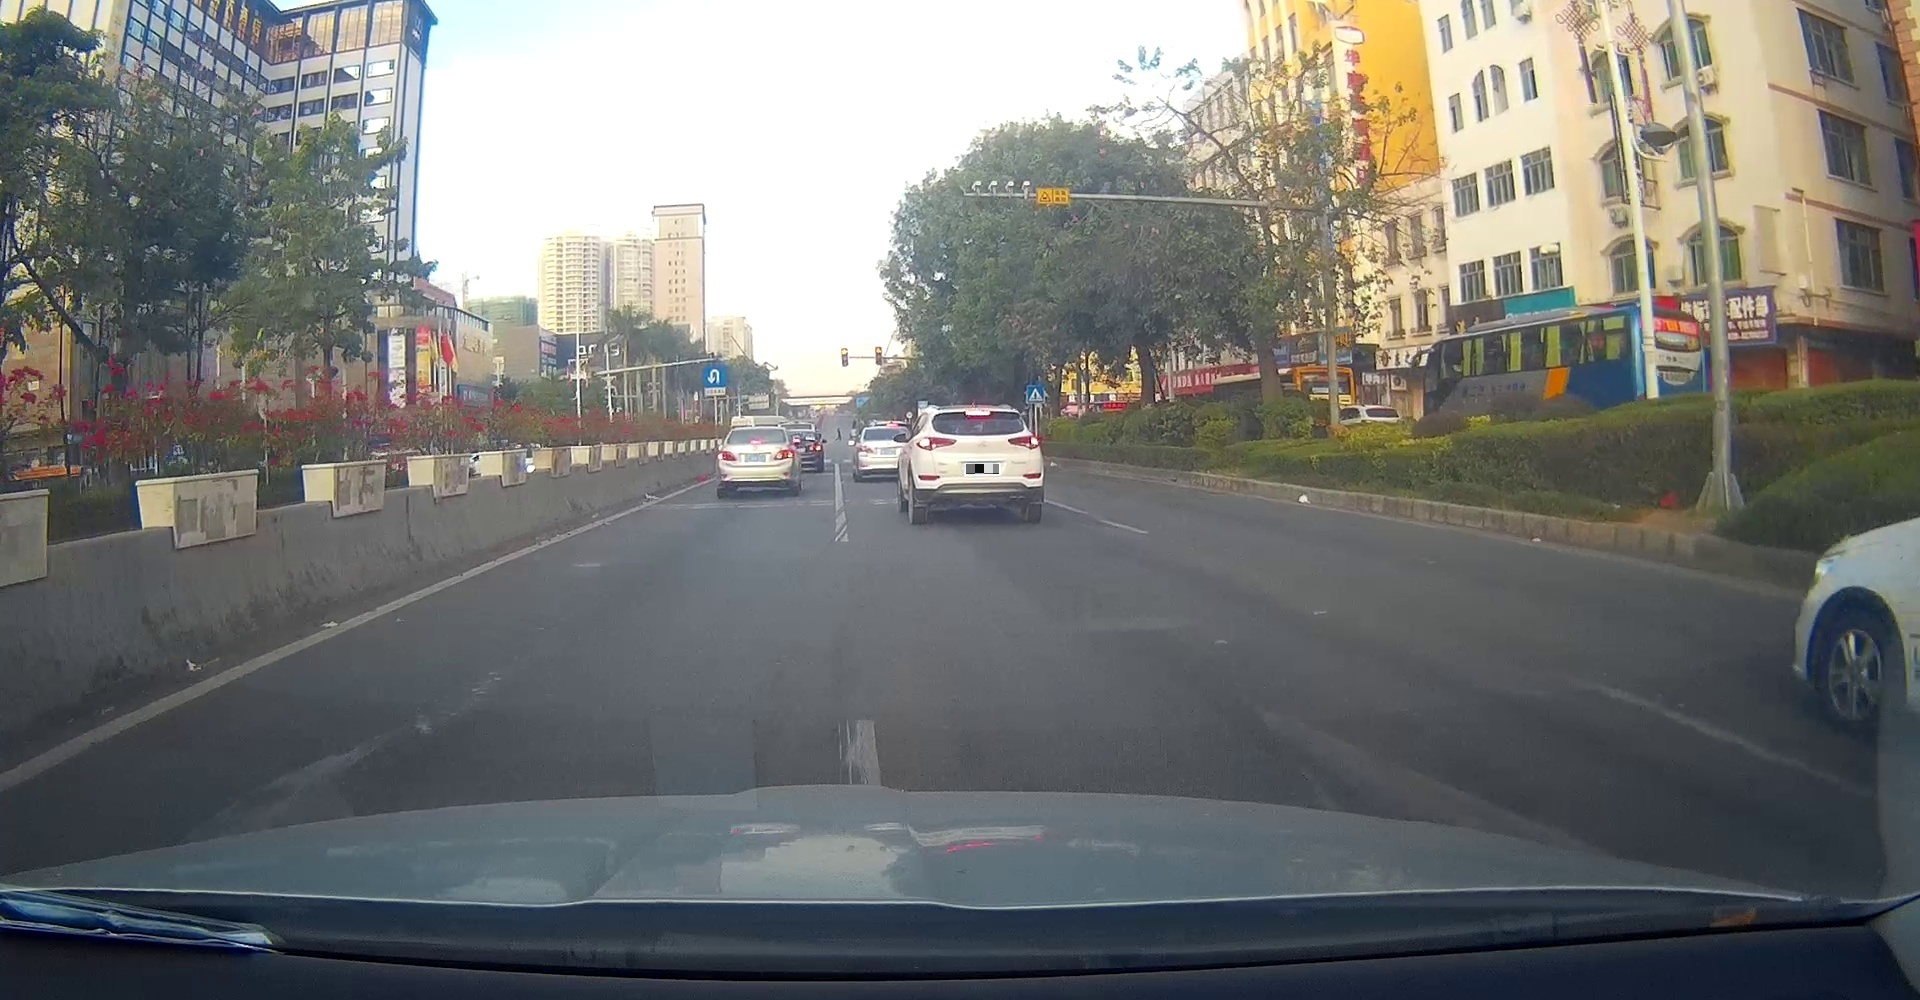L_light: (916, 437, 957, 451), (717, 451, 737, 462)
R_light: (1007, 435, 1039, 449), (773, 449, 794, 459)
T_light: (965, 411, 990, 416), (750, 439, 762, 444)
day-brake: (914, 404, 1041, 524), (717, 426, 794, 496)
plate_1: (966, 464, 999, 475)
